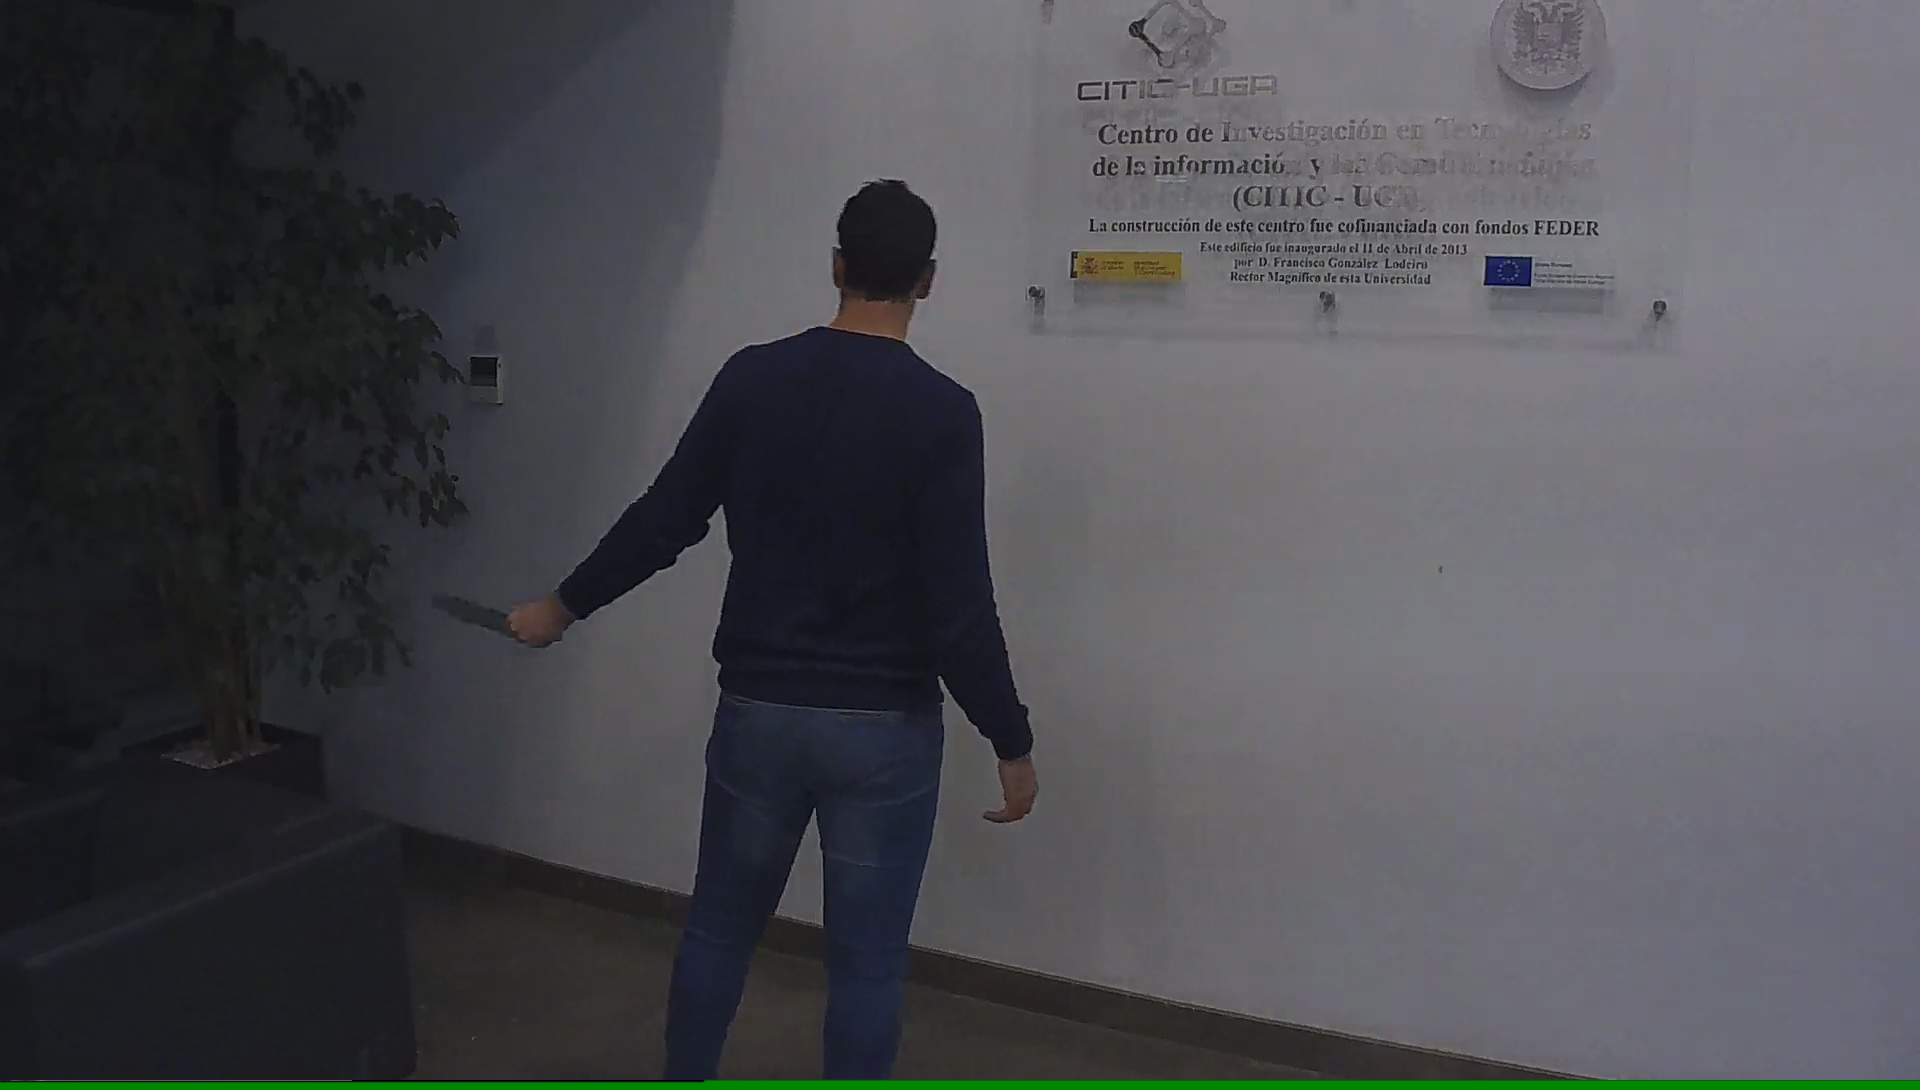knife: (419, 583, 554, 651)
